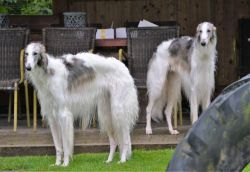borzoi: (22, 42, 139, 163), (144, 19, 223, 137)
